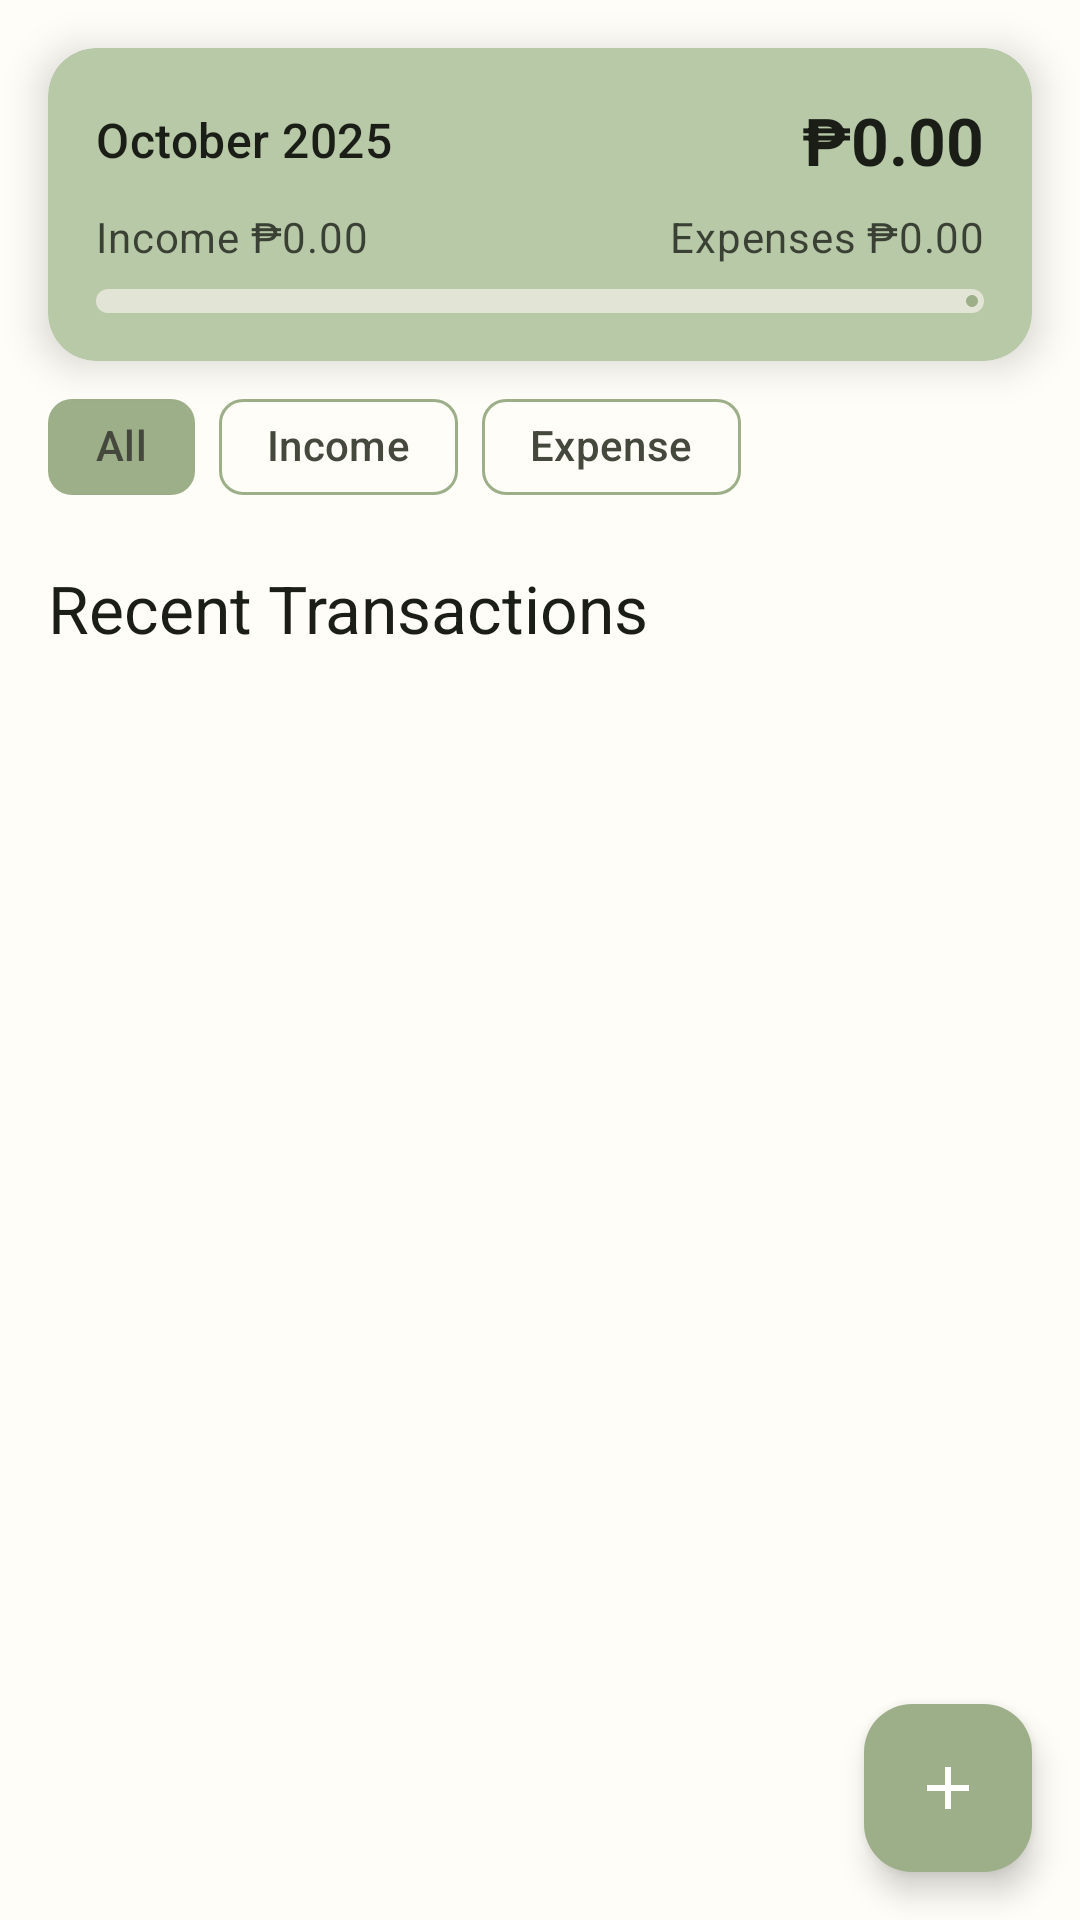

Where to tap for icons on this 1080 × 1920 app screen, as (x,y):
Add Transaction: (948,1788)
